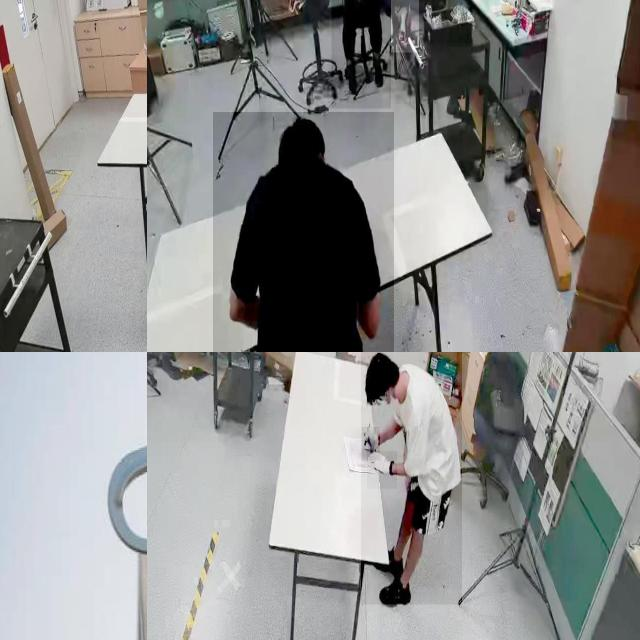Harness: (108, 447, 147, 640)
hand_glove: (367, 451, 397, 489), (362, 426, 380, 461)
head_nohelmet: (279, 116, 324, 146), (363, 352, 378, 405)
person: (213, 112, 394, 352), (361, 352, 462, 605), (331, 0, 391, 109), (390, 0, 419, 53)
shoes: (380, 575, 412, 611), (344, 60, 360, 101), (368, 57, 386, 92)
